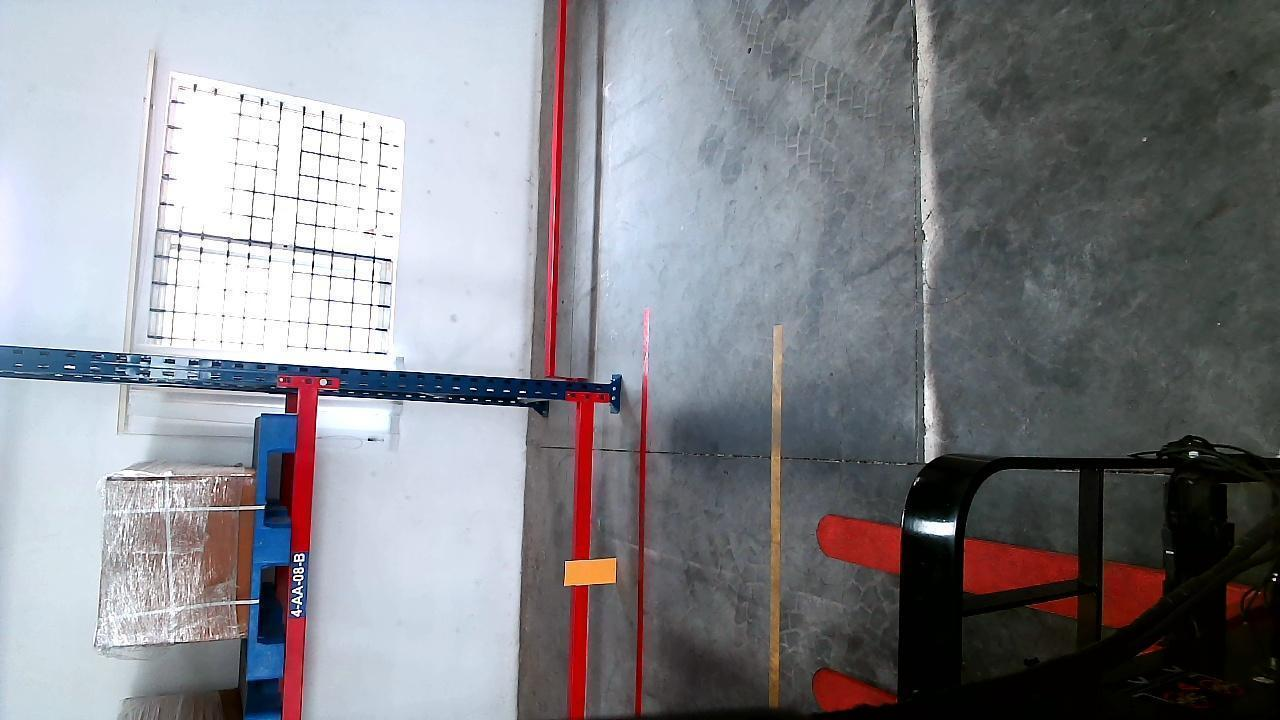red_line: (632, 306, 652, 715)
yellow_line: (765, 341, 786, 693)
